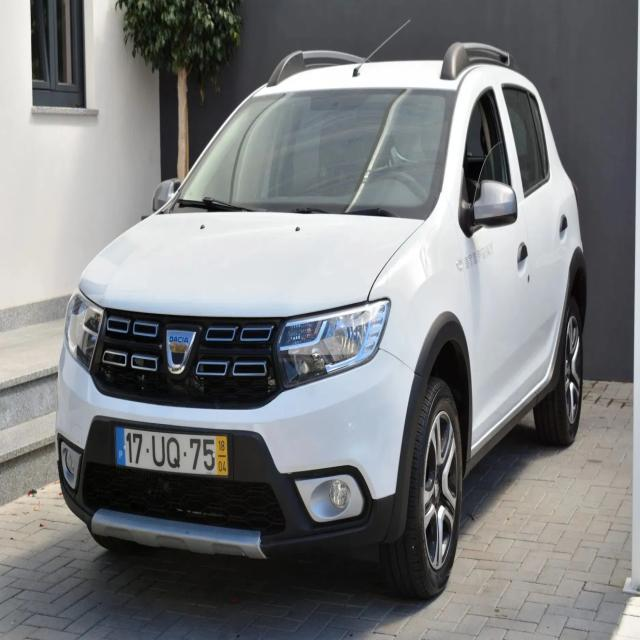portuguese-license-plates: (113, 423, 230, 480)
